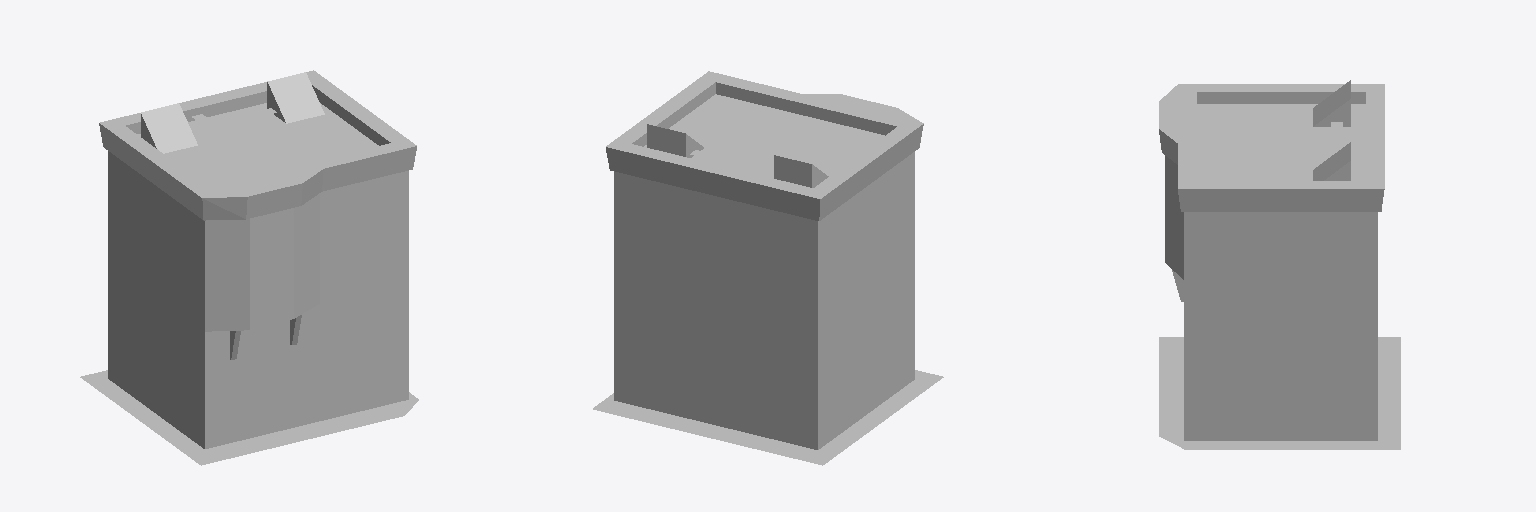
The model's file is Striaton City Building 2.obj.
3 renders of one model, left to right at view 1: azimuth 30°, elevation 25°; view 2: azimuth 150°, elevation 25°; view 3: azimuth 270°, elevation 25°, orthographic.
Parts seen in each view (by area): view 1: polygon2, polygon3, polygon0; view 2: polygon2, polygon3, polygon0; view 3: polygon2, polygon3, polygon0.
Boxes of the visible parts, box(x1,y1,x2,y2) form: polygon2: box(108, 72, 408, 402); polygon3: box(99, 70, 416, 448); polygon0: box(80, 370, 418, 465); polygon2: box(614, 152, 914, 403); polygon3: box(606, 71, 923, 449); polygon0: box(593, 370, 943, 465); polygon2: box(1165, 80, 1377, 394); polygon3: box(1159, 84, 1384, 440); polygon0: box(1159, 337, 1400, 449).
Size of the model in its own units: 84 by 95.05 by 76.25.